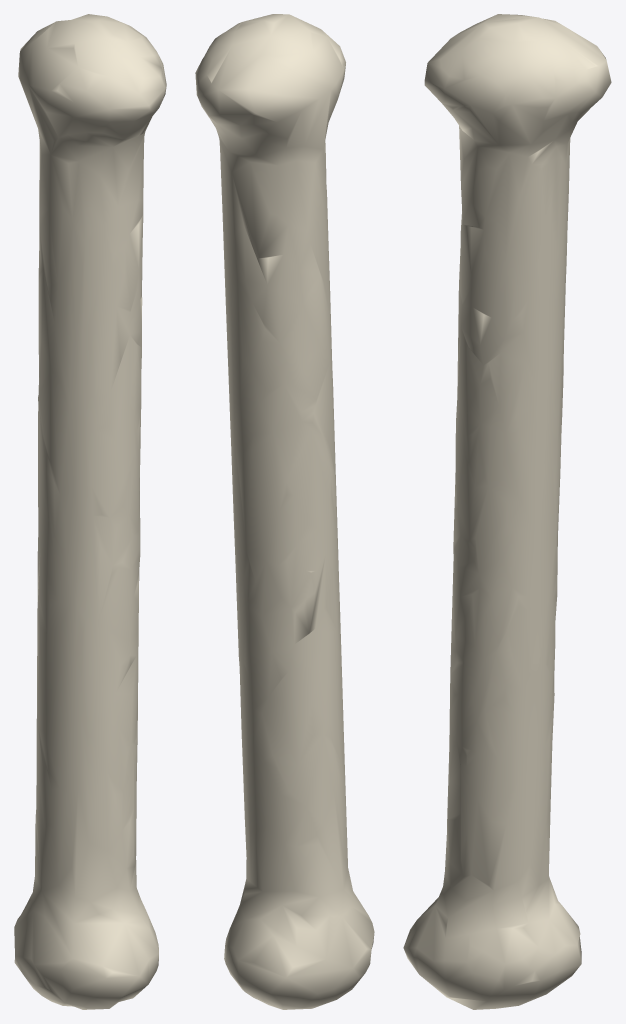
File: radius_r.glb
3 renders of one model, left to right at view 1: azimuth 30°, elevation 25°; view 2: azimuth 150°, elevation 25°; view 3: azimuth 270°, elevation 25°, orthographic. The views are drawn at different scales.
Parts seen in each view (by area): view 1: geometry_0; view 2: geometry_0; view 3: geometry_0.
Boxes of the visible parts, box(x1,y1,x2,y2) form: geometry_0: box(14, 14, 166, 1009); geometry_0: box(195, 14, 374, 1009); geometry_0: box(403, 14, 611, 1009).
Size of the model in its own units: 0.1248 by 0.819 by 0.1557.
